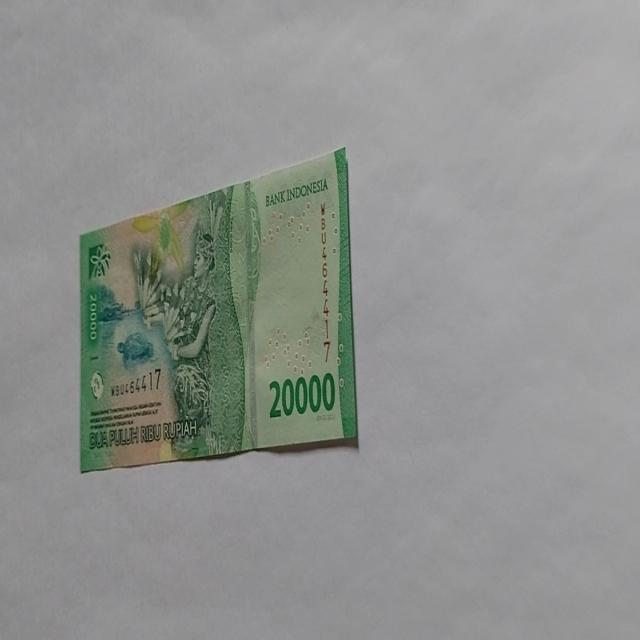dua puluh ribu rupiah: (78, 145, 358, 473), (130, 178, 261, 460)
